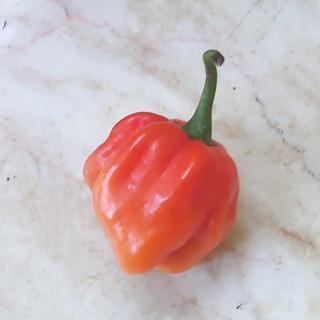Grade-B: (77, 104, 242, 277)
